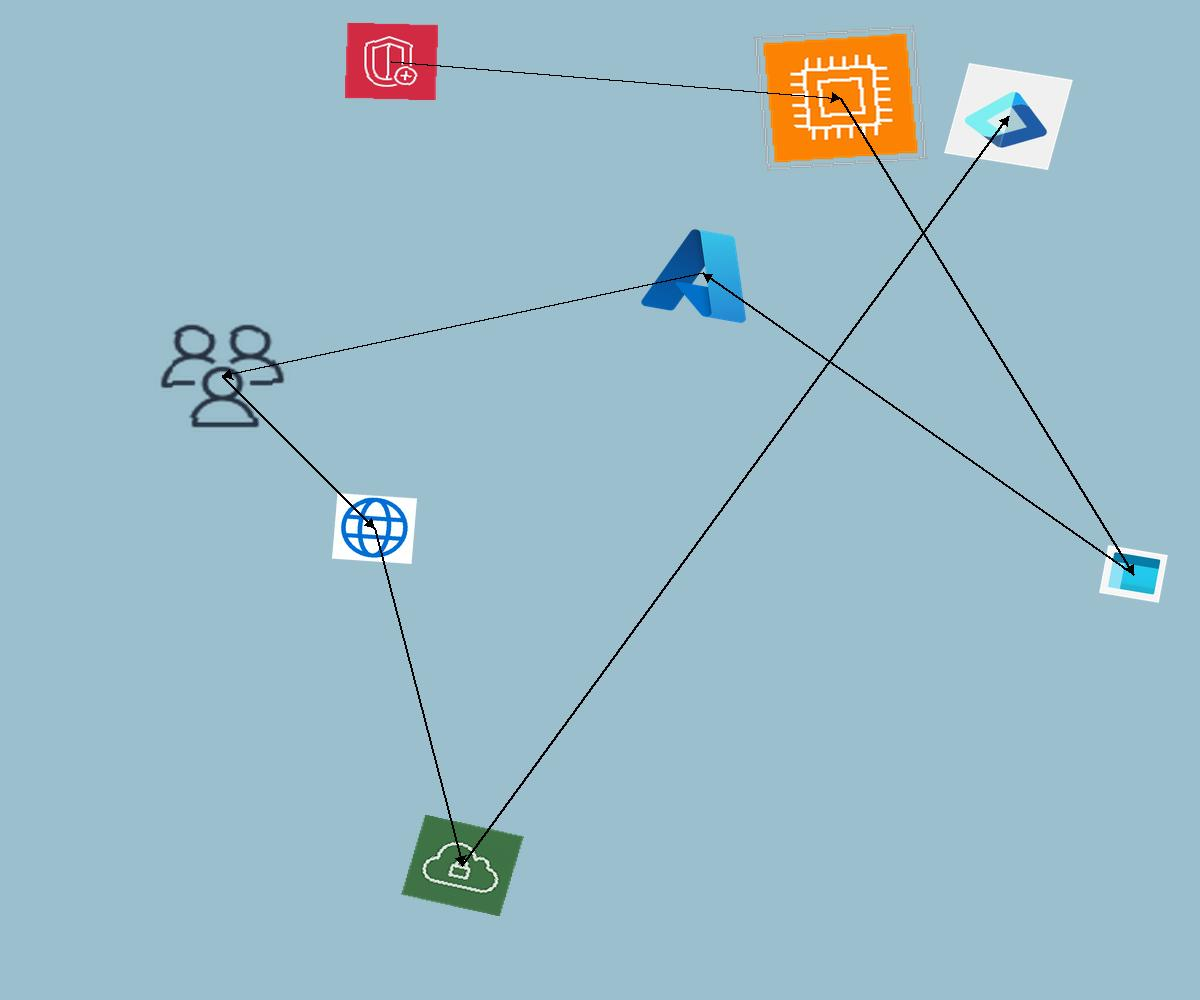AWS-Category_Compute: (753, 25, 928, 171)
AWS-Private_vpc: (401, 814, 524, 917)
AWS-Res_Users: (153, 318, 292, 434)
AWS-Shield: (344, 22, 439, 101)
Azure_http: (332, 493, 417, 564)
Azure_management-portal: (1099, 545, 1168, 603)
Azure_microsoft_entra: (944, 63, 1073, 170)
Azure_services: (634, 216, 772, 331)
